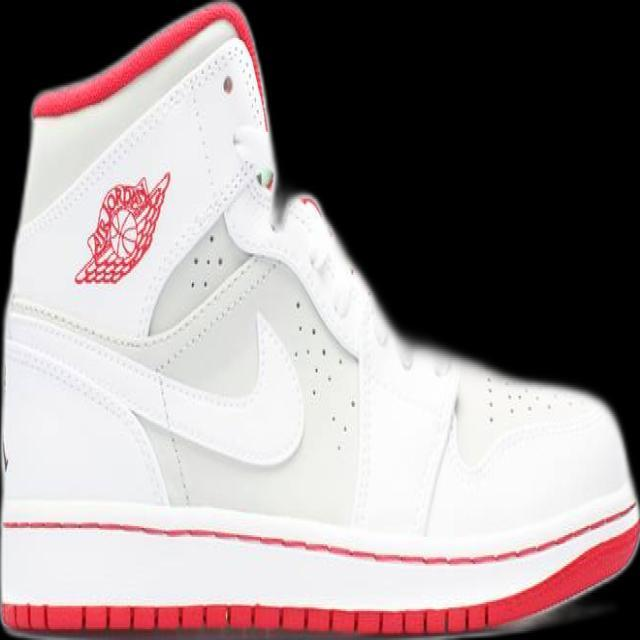J1_InsoleChar: (0, 0, 639, 639)
J1_ShoeLogo: (73, 170, 171, 285)
J1_StitchPattern: (7, 187, 585, 515), (5, 251, 361, 497), (0, 498, 638, 570), (4, 293, 197, 506), (0, 601, 489, 636), (283, 291, 360, 454), (149, 369, 196, 508), (477, 373, 560, 427)
